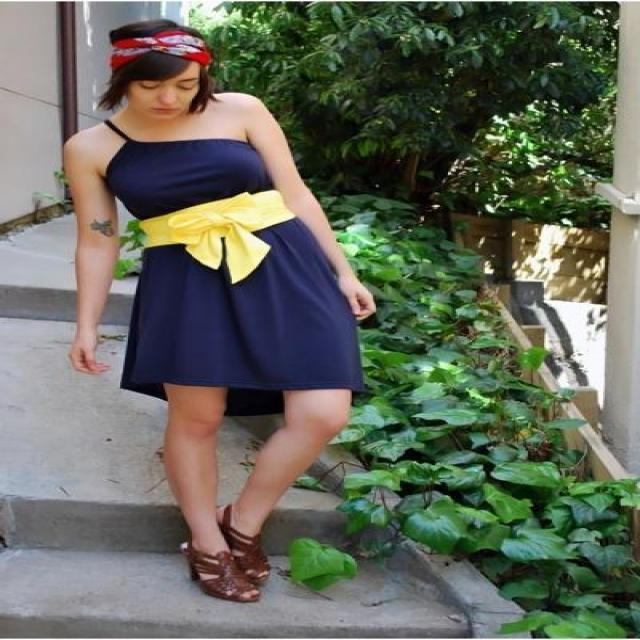dress: (99, 127, 381, 415)
shoe: (189, 524, 270, 602)
